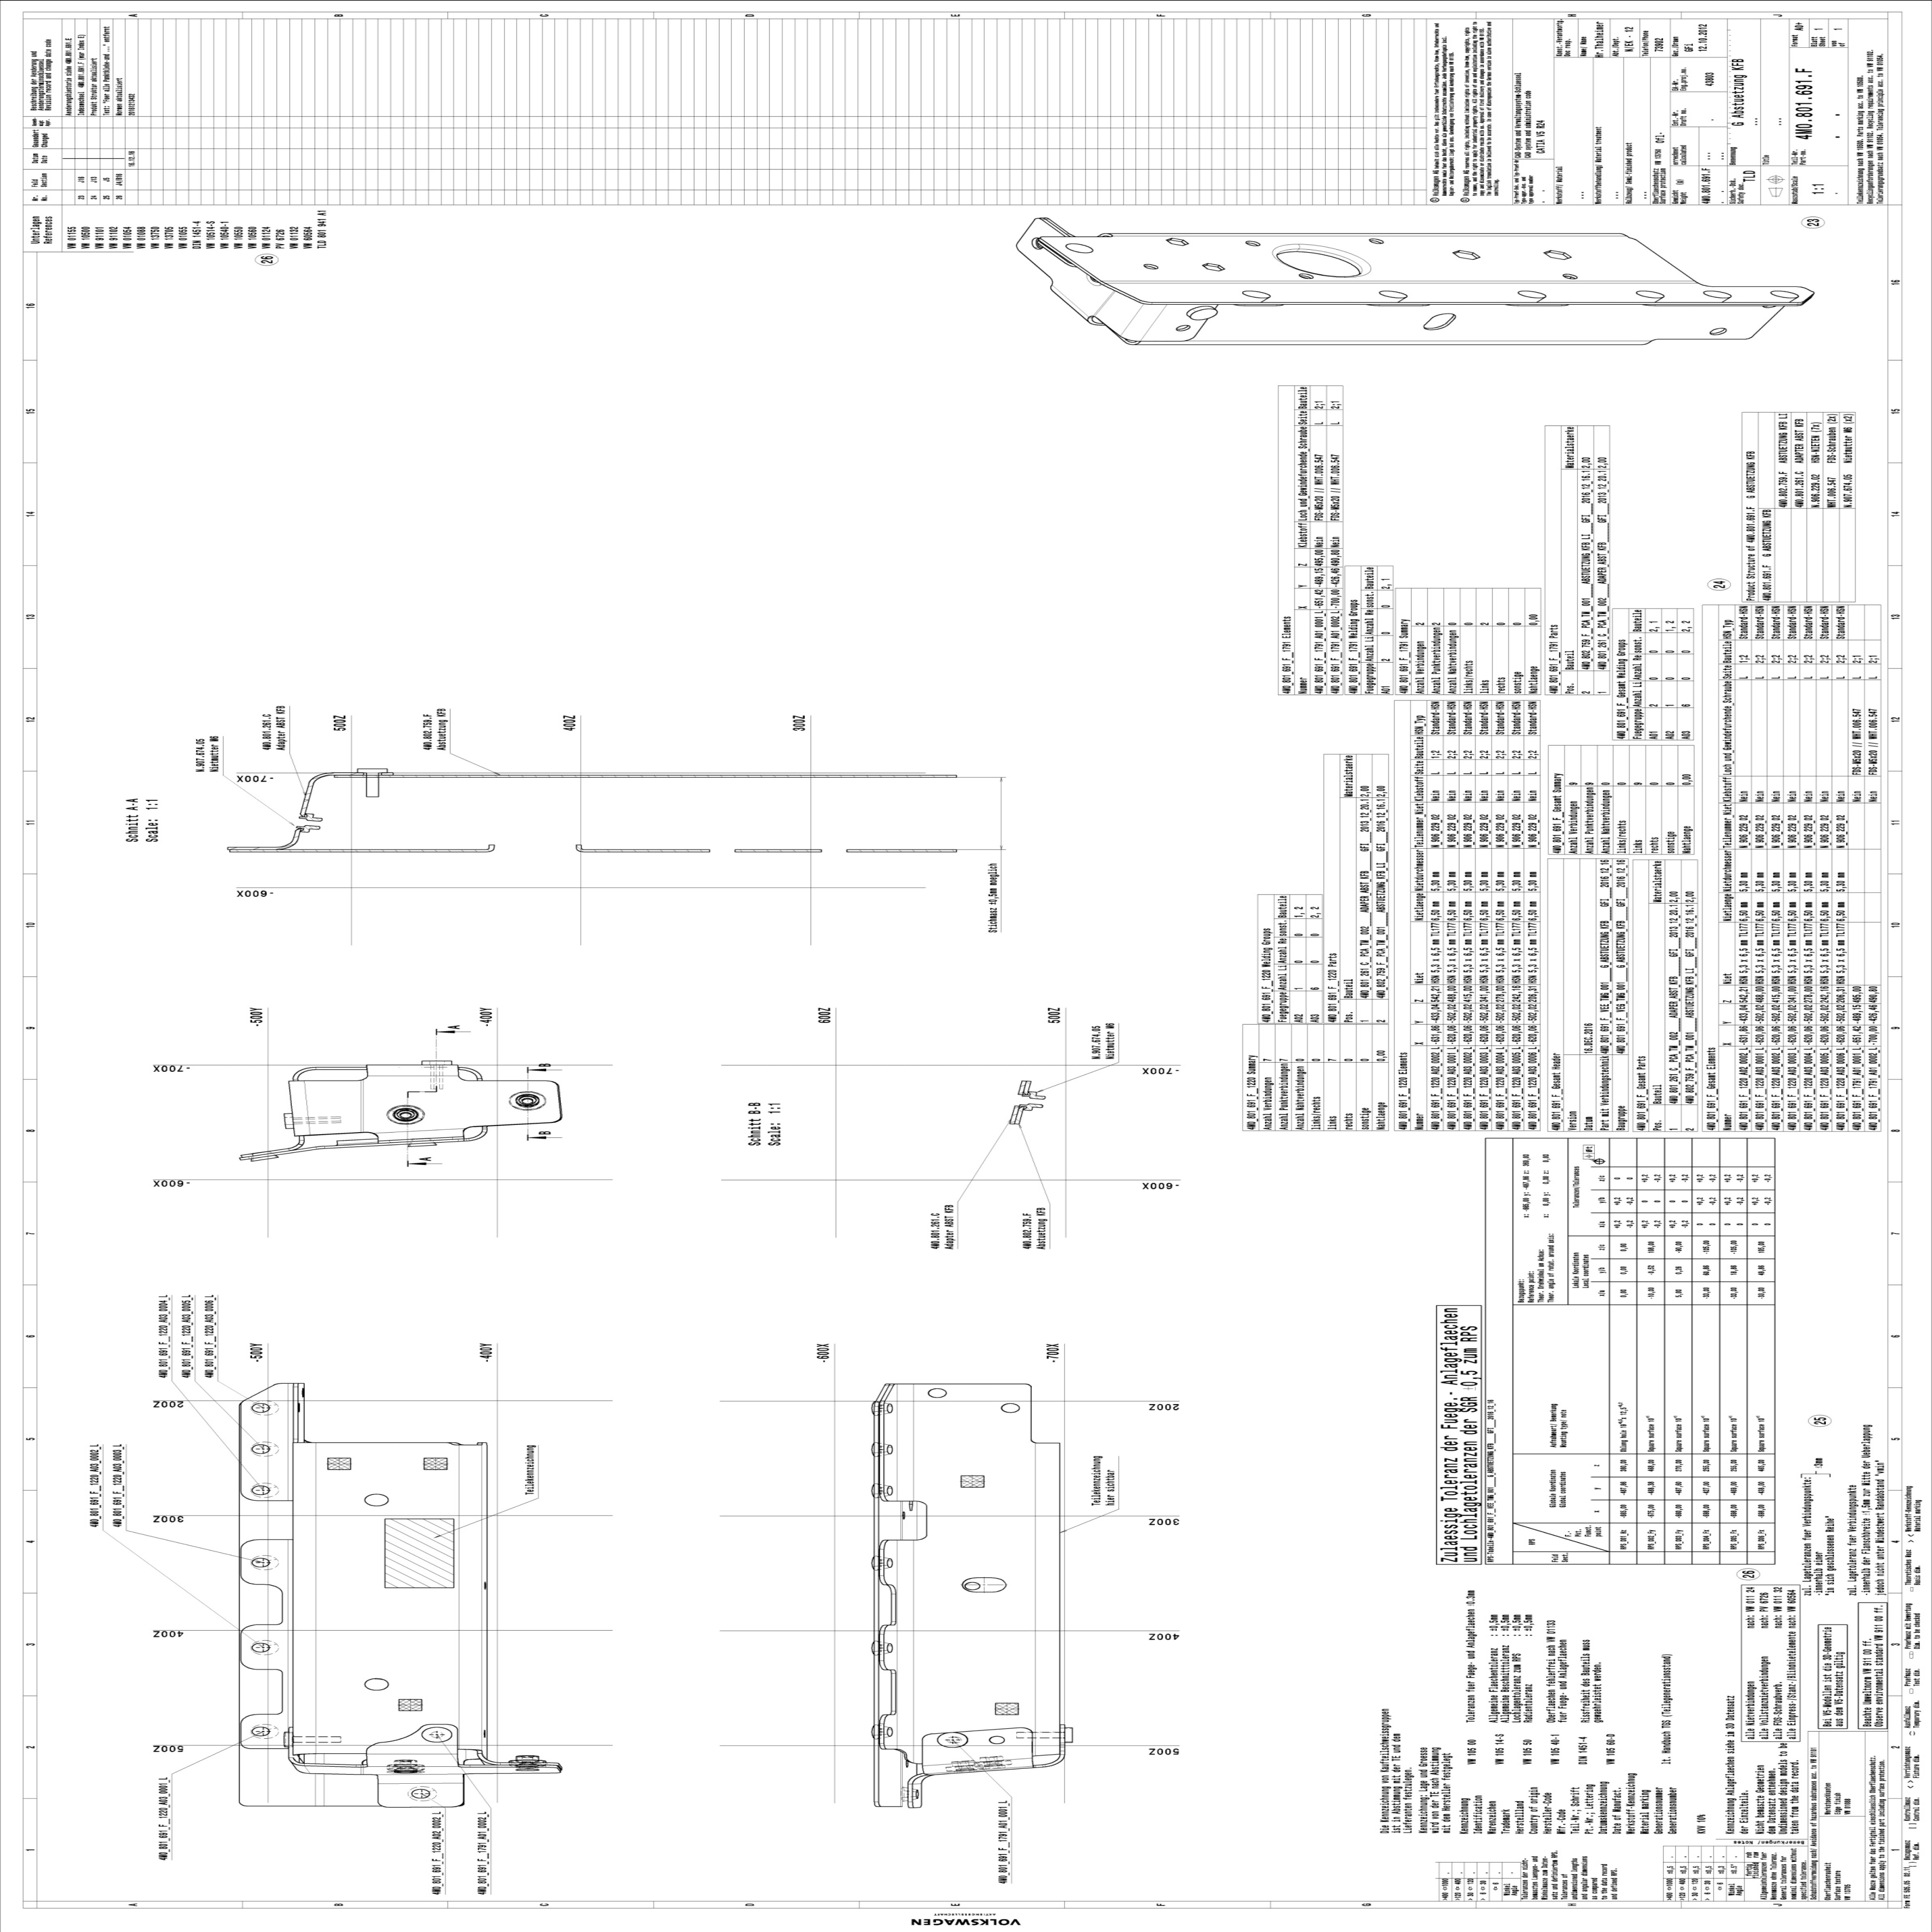BendingEdge: (1119, 296, 1164, 349), (1112, 234, 1625, 237), (1103, 280, 1693, 283), (1090, 313, 1123, 337), (358, 1080, 364, 1130)
InnerContour: (1424, 306, 1459, 337), (962, 1574, 1008, 1596), (363, 1677, 390, 1693), (363, 1492, 390, 1508), (1063, 241, 1094, 255), (1379, 287, 1408, 300), (250, 1723, 270, 1740), (1702, 287, 1732, 299), (1001, 1400, 1022, 1416), (1518, 288, 1547, 300), (926, 1386, 948, 1401), (1636, 287, 1665, 299), (252, 1553, 271, 1570), (1771, 288, 1800, 299), (250, 1641, 271, 1655), (250, 1485, 273, 1498), (1242, 290, 1271, 300), (250, 1443, 269, 1458), (411, 1788, 430, 1802), (251, 1402, 271, 1414), (1706, 327, 1729, 337), (989, 1735, 1007, 1746), (1562, 270, 1578, 281), (1367, 235, 1384, 245), (1296, 272, 1317, 280), (1245, 239, 1260, 249), (1143, 262, 1159, 271), (1176, 325, 1192, 333), (887, 1554, 895, 1569), (887, 1404, 897, 1416), (887, 1641, 895, 1657), (887, 1442, 894, 1459), (885, 1727, 894, 1740), (887, 1483, 893, 1497)
InnerContourAngular: (1542, 243, 1573, 264), (1453, 249, 1480, 262), (1165, 235, 1189, 249), (1202, 260, 1225, 274)
Notch: (238, 1662, 284, 1720), (238, 1575, 284, 1634), (876, 1496, 927, 1546), (877, 1577, 899, 1635), (877, 1664, 898, 1724)
ThroughHole: (1267, 233, 1378, 288)
